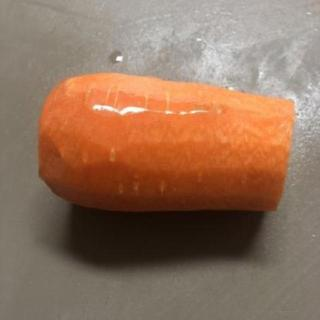carrot: (36, 71, 294, 215)
